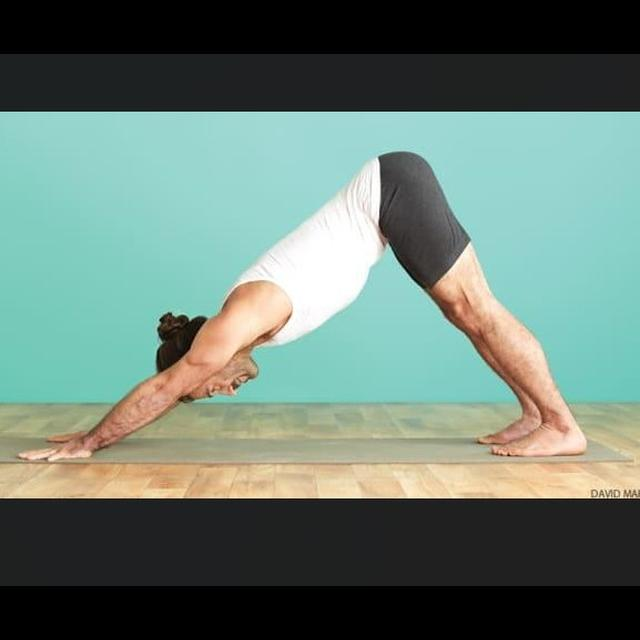Downward-Facing_Dog: (12, 148, 590, 463)
